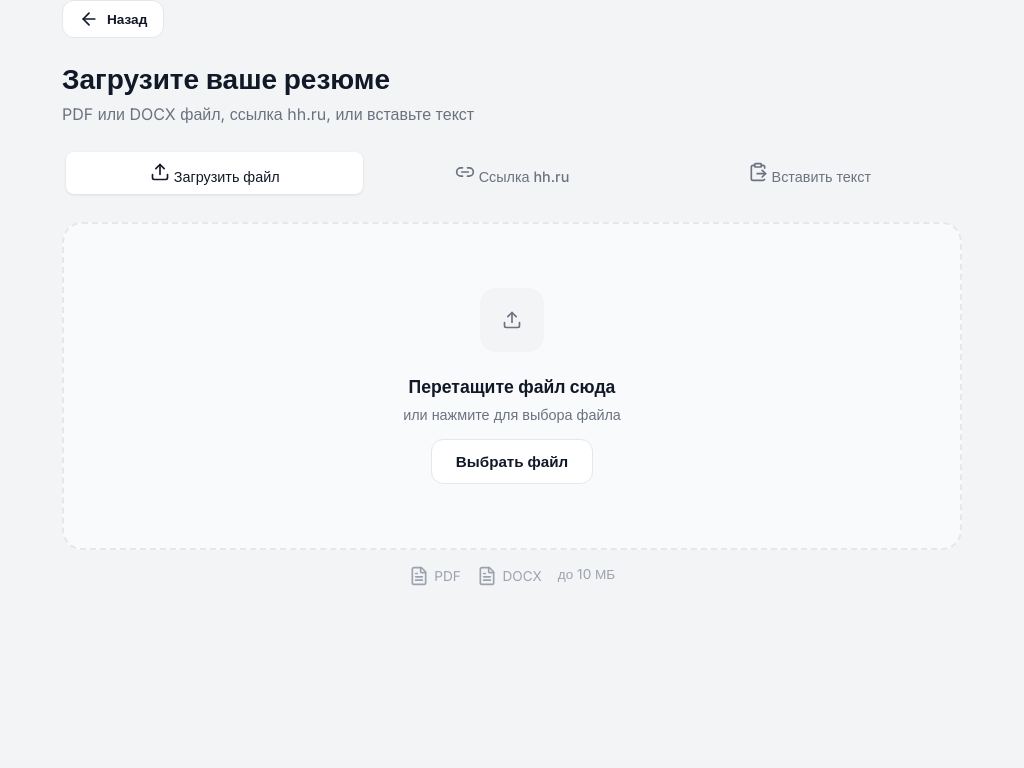
UploadPage text paste tab › shows character count
Click the text "Вставить текст" at (821, 176), box [772,168,871,185]
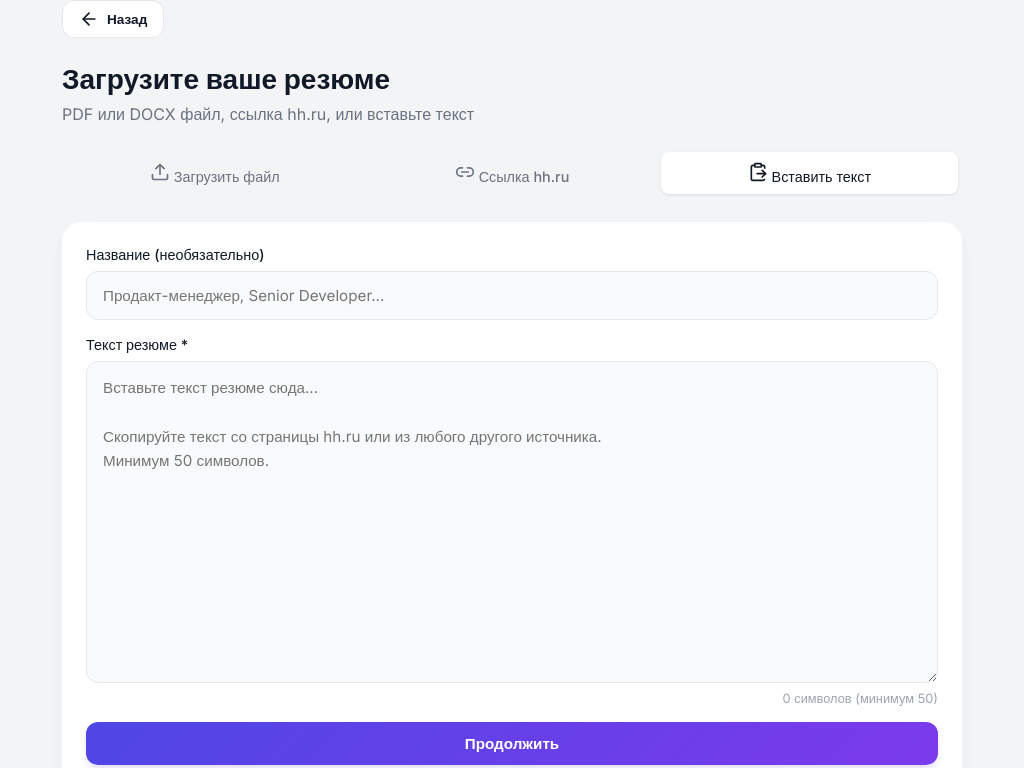
Check: the text "0 символов (минимум 50)" is shown, box [783,691,938,706]
